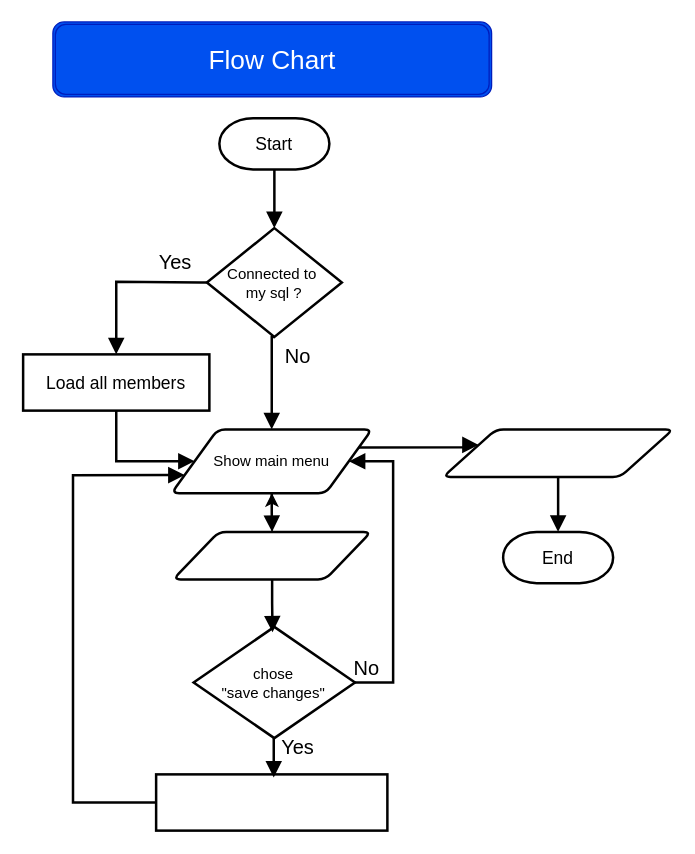
This 695x854 diagram has some shape labels left out. The shapes that lost their labels are listed below. From the top down, each one's centre as x and y in pixels, then its label:
the point at 557,453: Enter 0 to close the programe
the point at 271,555: Enter choice
the point at 271,801: Clear all dta and rewrite all data
